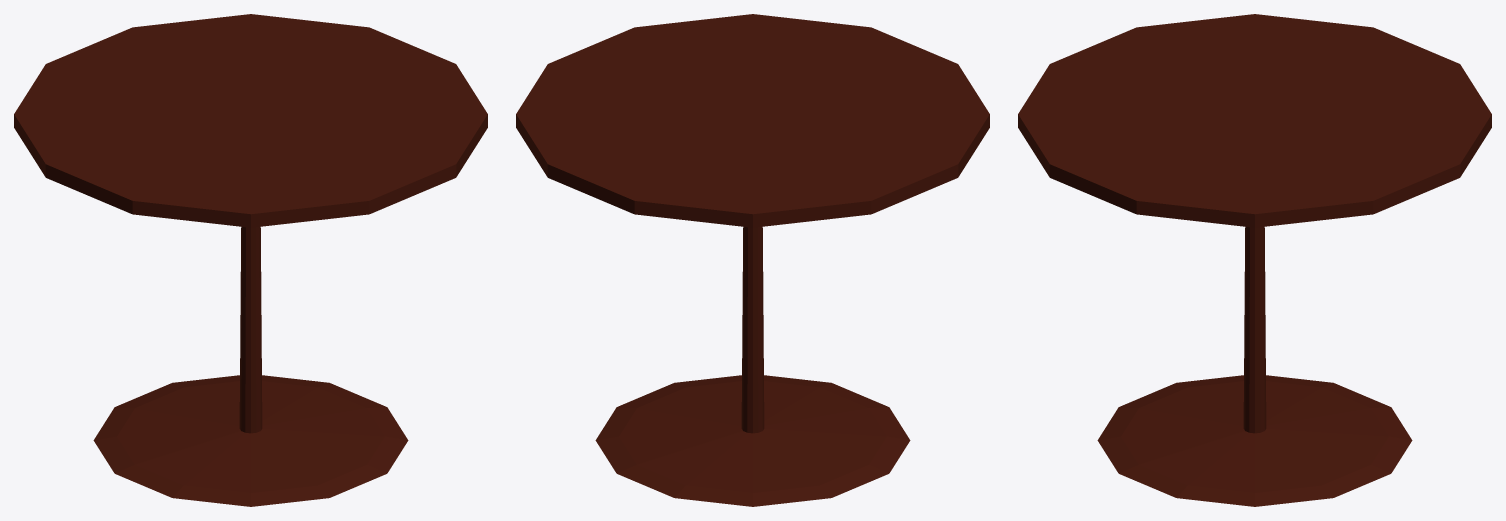
Rendered from table.obj.
3 views of the same model, side by side, from view 1: azimuth 30°, elevation 25°; view 2: azimuth 150°, elevation 25°; view 3: azimuth 270°, elevation 25° (orthographic).
Visible parts, largest first — view 1: Circle; view 2: Circle; view 3: Circle.
Part boxes in pixels (left/top/right/bottom): Circle: left=14, top=14, right=487, bottom=506; Circle: left=516, top=14, right=989, bottom=506; Circle: left=1018, top=14, right=1491, bottom=506.
Size of the model in its own units: 1.48 by 1.12 by 1.48.
